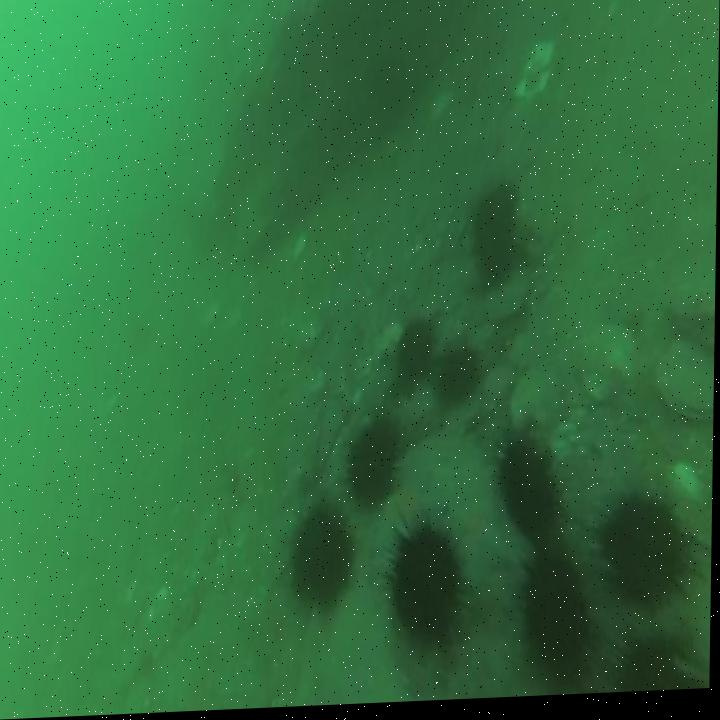echinus: (601, 476, 704, 629), (517, 533, 603, 687), (285, 487, 364, 631), (488, 430, 561, 543), (469, 180, 528, 303), (340, 419, 405, 512), (428, 340, 493, 419), (383, 307, 439, 395)
scallop: (658, 334, 716, 436)
starfish: (446, 488, 521, 615), (377, 478, 450, 573)
